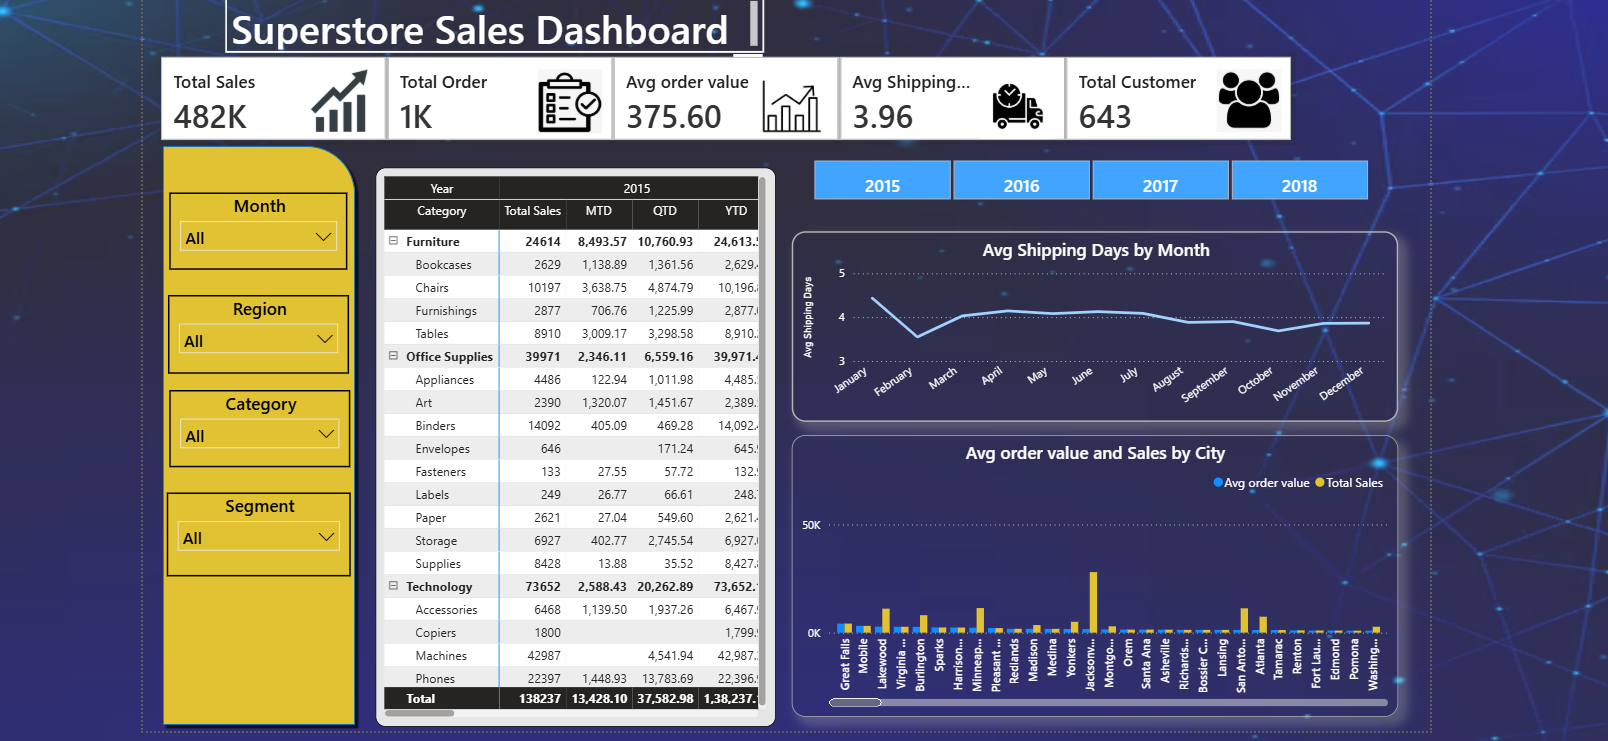

What the dashboard file says about the page in this screenshot:
{"tool":"powerbi","page":{"name":"Sales Deep Dive","canvas":[1400,800],"ordinal":1},"visuals":[{"type":"textbox","box":[89.7,0,585.6,62.5],"z":0},{"type":"cardVisual","fields":{"Data":["suprstore sales data.Total Sales","suprstore sales data.Total Order","suprstore sales data.Average order value","suprstore sales data.Average Shipping Days","suprstore sales data.Total Customer"]},"box":[15,63,1238.2,100.6],"z":1000},{"type":"advancedSlicerVisual","fields":{"Values":["Custom Calender.Date.Variation.Date Hierarchy.Year"]},"box":[705.4,175.6,652.9,52.5],"z":2000},{"type":"shape","box":[15,157.6,222.1,642.4],"z":3000},{"type":"pivotTable","fields":{"Columns":["Custom Calender.Date.Variation.Date Hierarchy.Year","Custom Calender.Date.Variation.Date Hierarchy.Quarter","Custom Calender.Date.Variation.Date Hierarchy.Month","Custom Calender.Date.Variation.Date Hierarchy.Day"],"Rows":["suprstore sales data.Category","suprstore sales data.Sub-Category"],"Values":["suprstore sales data.Total Sales","suprstore sales data.MTD","suprstore sales data.QTD","suprstore sales data.YTD"]},"box":[252.1,187.6,435.3,607.8],"z":4000},{"type":"lineChart","fields":{"Y":["suprstore sales data.Avg Shipping Days"],"Category":["Custom Calender.Date.Variation.Date Hierarchy.Month"]},"box":[705.4,256.6,658.9,207.1],"z":5000},{"type":"slicer","title":"Month","fields":{"Values":["Custom Calender.Date.Variation.Date Hierarchy.Month"]},"box":[28.5,214.6,193.6,84],"z":6000},{"type":"slicer","title":"Region","fields":{"Values":["suprstore sales data.Region"]},"box":[27,325.7,196.6,85.5],"z":7000},{"type":"slicer","title":"Category","fields":{"Values":["suprstore sales data.Category"]},"box":[28.5,429.2,196.6,84],"z":8000},{"type":"slicer","title":"Segment","fields":{"Values":["suprstore sales data.Segment"]},"box":[25.5,540.3,199.6,91.6],"z":9000},{"type":"clusteredColumnChart","title":"Avg order value and Sales by City","fields":{"Category":["suprstore sales data.City"],"Y":["suprstore sales data.Avg order value","suprstore sales data.Total Sales"]},"box":[705.4,478.8,658.9,306.2],"z":10000}]}

Visuals, with their boxes in screenshot pixels (x1, y1, x2, y2):
textbox: region(230, 0, 746, 51)
cardVisual - suprstore sales data.Total Sales x suprstore sales data.Total Order: region(164, 51, 1255, 140)
advancedSlicerVisual - Custom Calender.Date.Variation.Date Hierarchy.Year: region(772, 151, 1348, 197)
shape: region(164, 135, 360, 701)
pivotTable - Custom Calender.Date.Variation.Date Hierarchy.Year x Custom Calender.Date.Variation.Date Hierarchy.Quarter: region(373, 161, 757, 697)
lineChart - suprstore sales data.Avg Shipping Days x Custom Calender.Date.Variation.Date Hierarchy.Month: region(772, 222, 1353, 404)
"Month" slicer: region(176, 185, 346, 259)
"Region" slicer: region(175, 283, 348, 358)
"Category" slicer: region(176, 374, 349, 448)
"Segment" slicer: region(173, 472, 349, 553)
"Avg order value and Sales by City" clusteredColumnChart: region(772, 418, 1353, 688)
